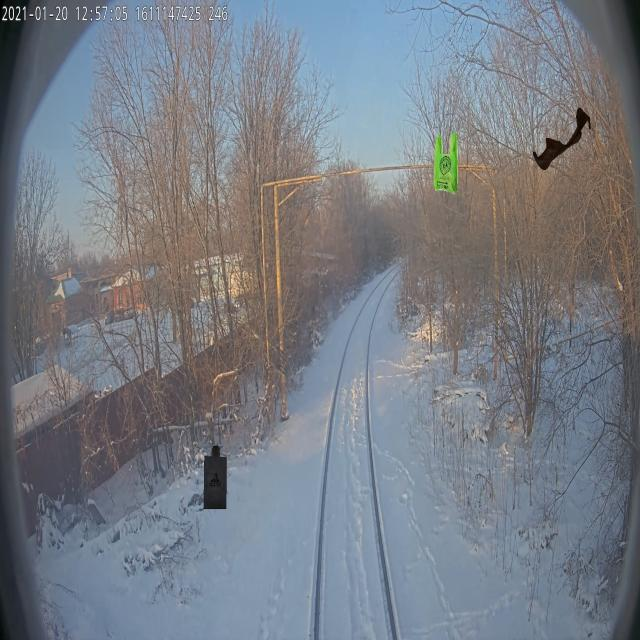floating object: (533, 106, 591, 170)
plastic bag: (433, 130, 458, 194), (203, 445, 227, 509)
